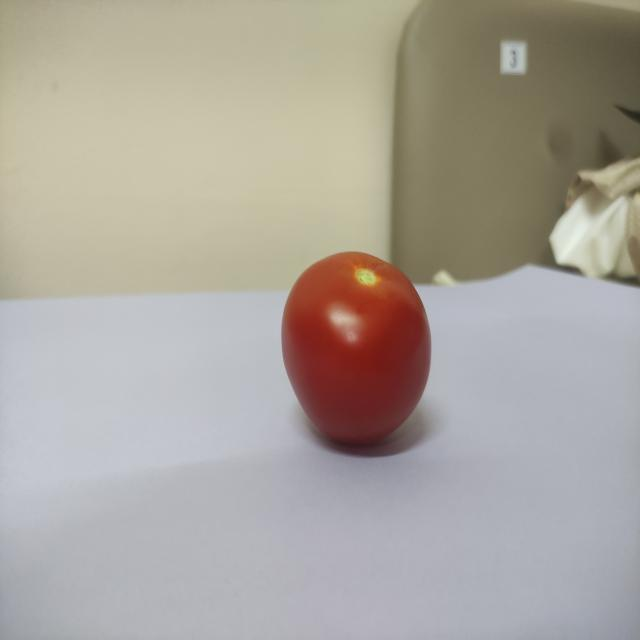kirmizi: (277, 240, 441, 464)
